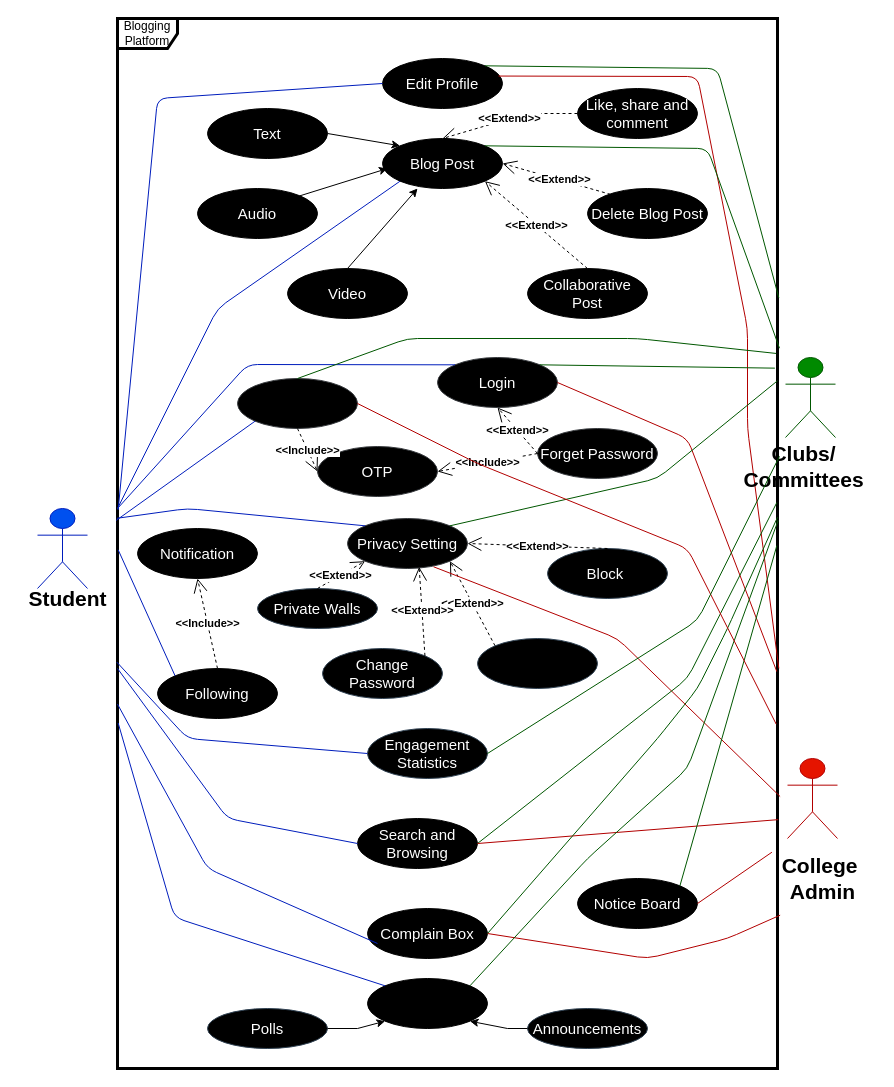
Image size: 894x1087. Some labels were removed from this diagram. Each missing label, with the centre of its shape:
Online Forums: pixel 427 1003
Registration: pixel 297 403
Reports: pixel 537 663
